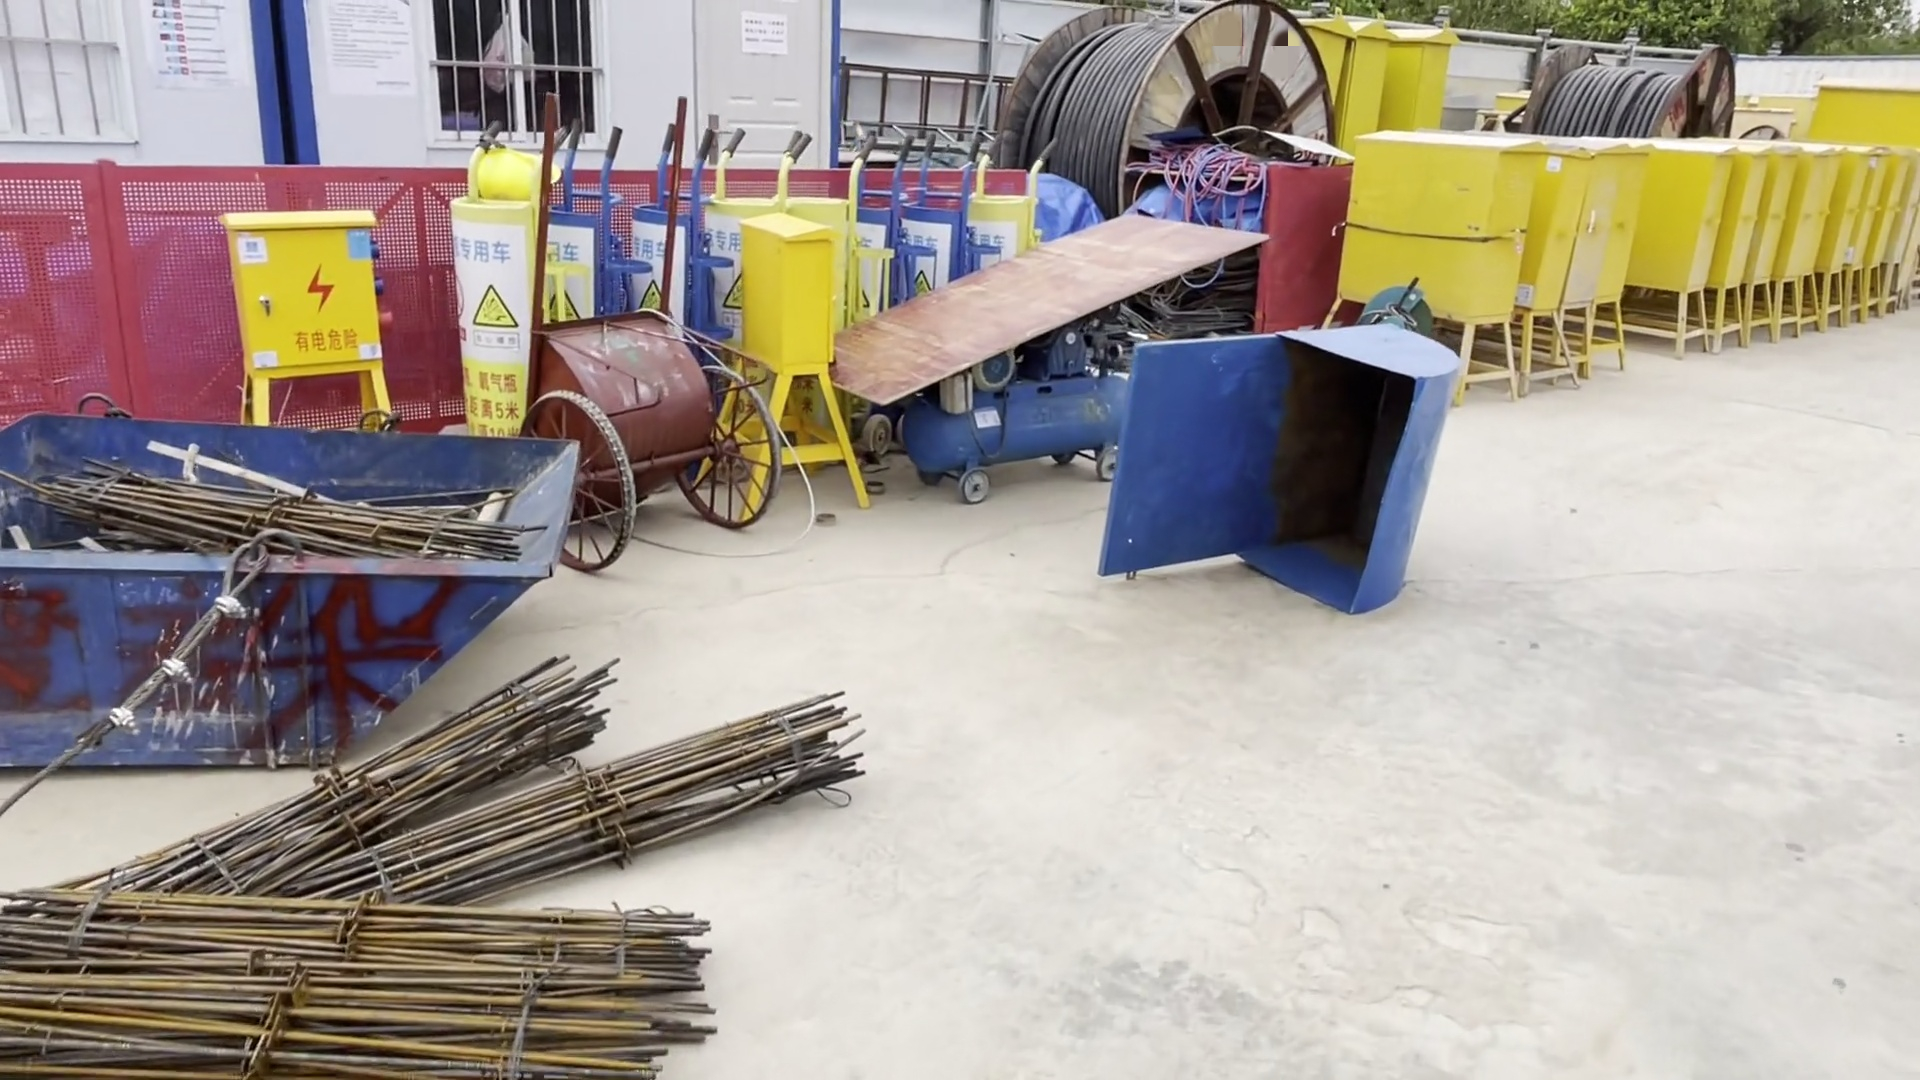ebox: (709, 216, 878, 518), (1350, 128, 1523, 402), (237, 198, 407, 419), (1625, 146, 1734, 360), (1520, 144, 1597, 398), (1386, 18, 1458, 129), (1337, 22, 1398, 149)
handcart: (537, 94, 771, 571)
hopper: (1, 411, 593, 790)
slogan: (459, 233, 520, 348)
